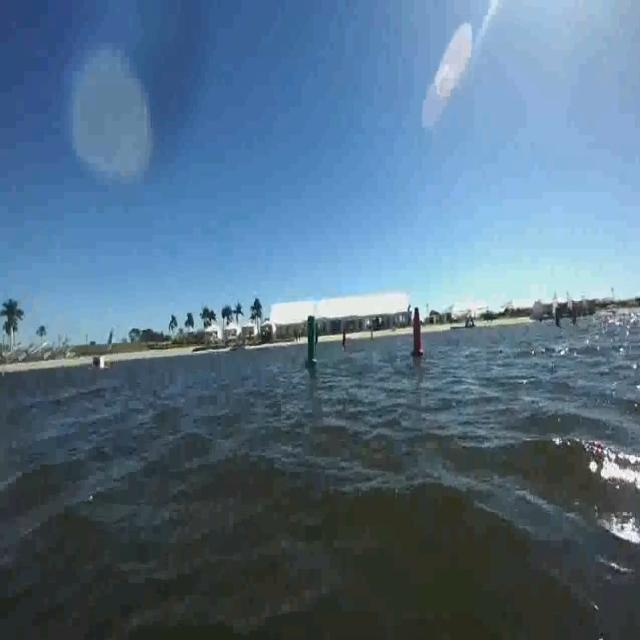green-column-buoy: (305, 316, 321, 368)
red-column-buoy: (410, 306, 425, 357), (342, 329, 349, 349)
